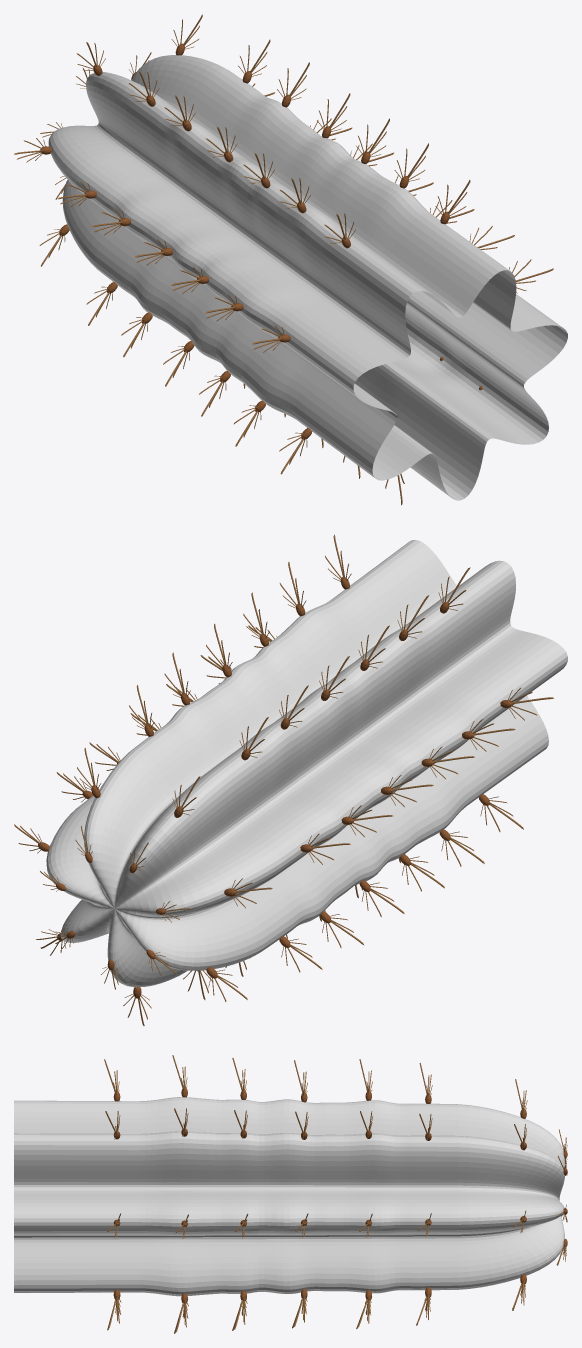
File: frame-130.glb
3 views of the same model, one above another, from view 1: azimuth 30°, elevation 25°; view 2: azimuth 150°, elevation 25°; view 3: azimuth 270°, elevation 25° (orthographic). The views are drawn at different scales.
Parts seen in each view (by area): view 1: WACHUMA_Pachanoi_Frame_130; view 2: WACHUMA_Pachanoi_Frame_130; view 3: WACHUMA_Pachanoi_Frame_130.
Boxes of the visible parts, x1=… form: WACHUMA_Pachanoi_Frame_130: x1=14, y1=14, x2=567, y2=505; WACHUMA_Pachanoi_Frame_130: x1=14, y1=534, x2=567, y2=1025; WACHUMA_Pachanoi_Frame_130: x1=14, y1=1055, x2=567, y2=1333.
Size of the model in its own units: 1.24 by 1.21 by 2.4.
